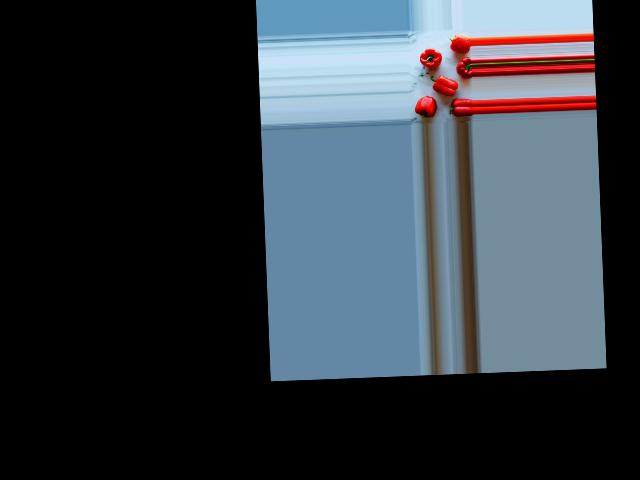bell_pepper: (455, 57, 471, 79)
